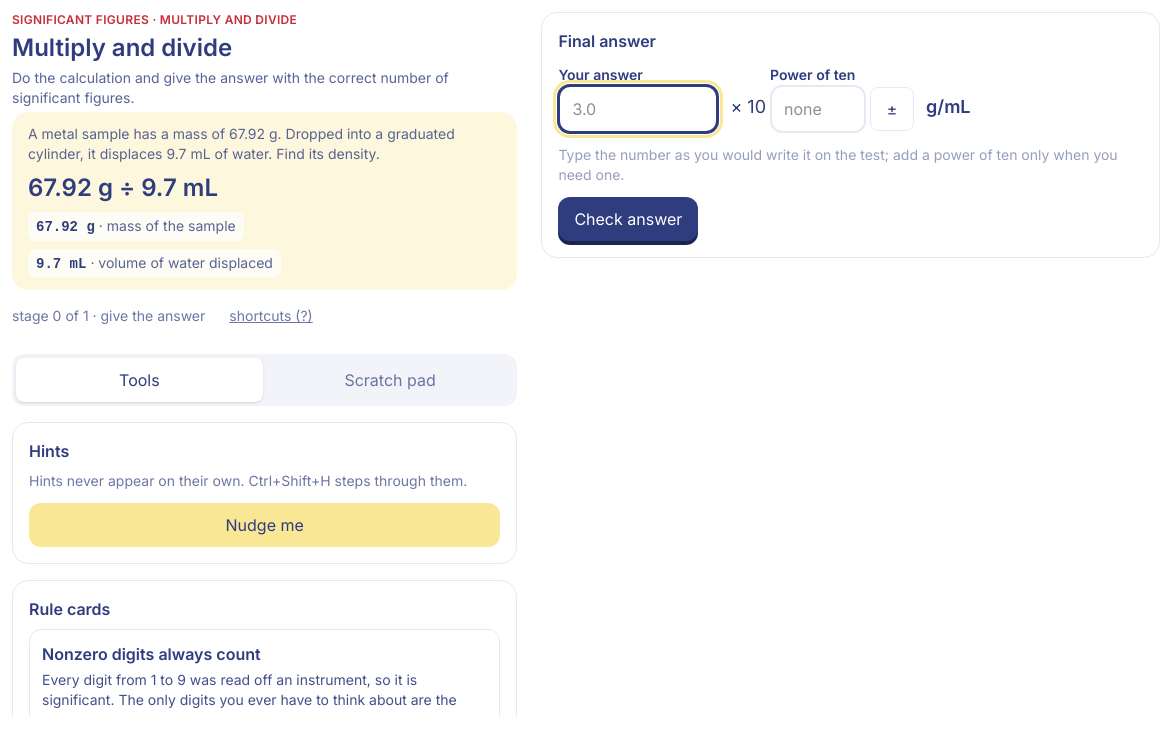
Test: SigFigFlow: typed numeral answers › a parse error points at the character and is not recorded as an answer
Type "7.0 g" into the field labelled "Your answer" at (638, 109), box [558,85,718,133]
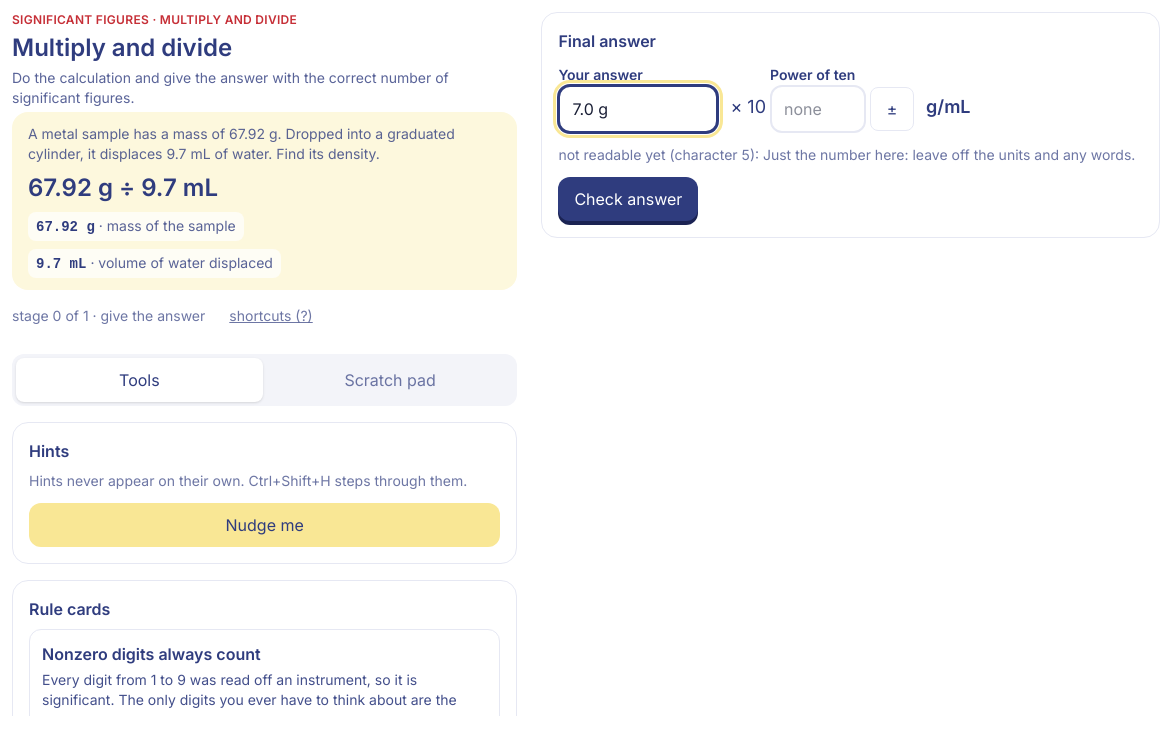
Expected: the text "not readable yet (character 5)" is shown, [558,146,1135,163]
Click the button "Check answer" at (628, 199), box [558,177,698,221]
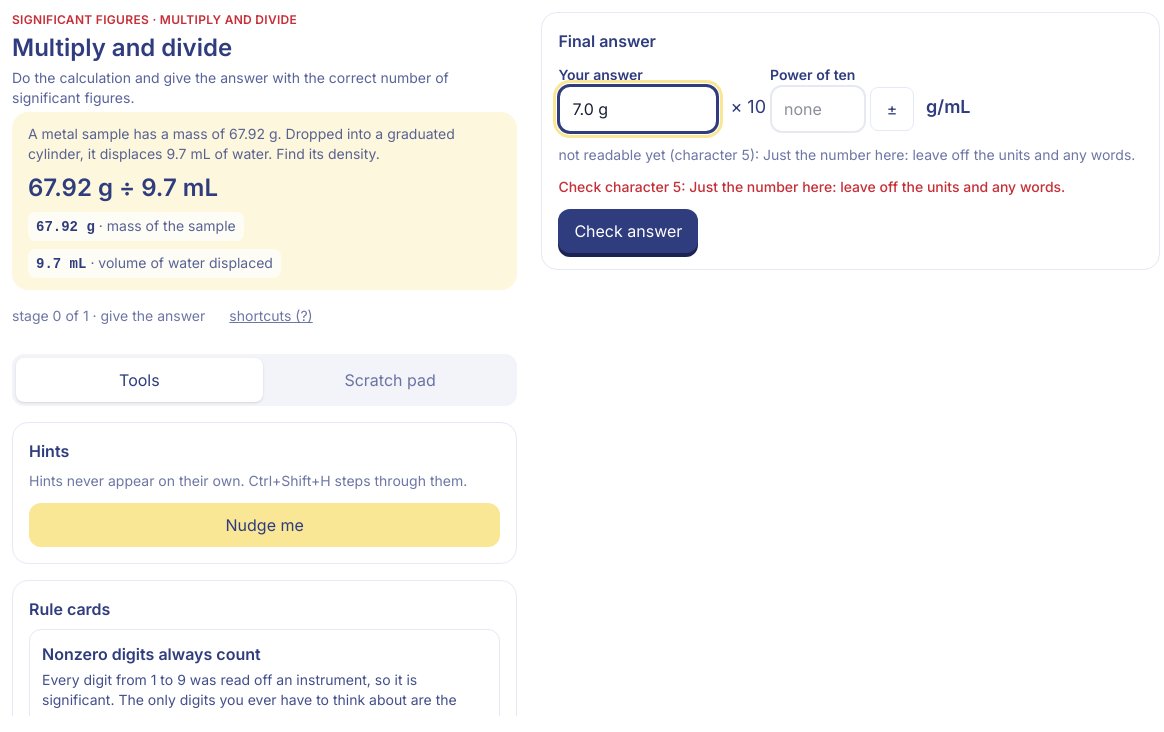
Expected: the message shows "Check character 5:", [558,178,1065,195]
